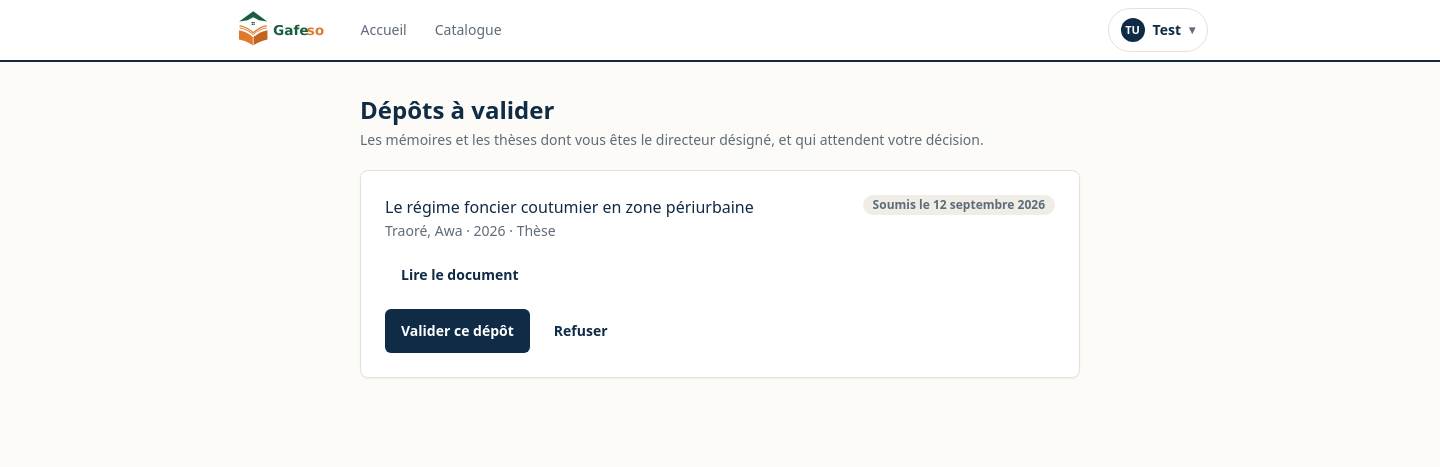
Scenario: Dépôts à valider · le déposant est-il prévenu ? › courriel parti : on le dit
Click the button "Valider ce dépôt" at (457,331), box [385,309,530,353]
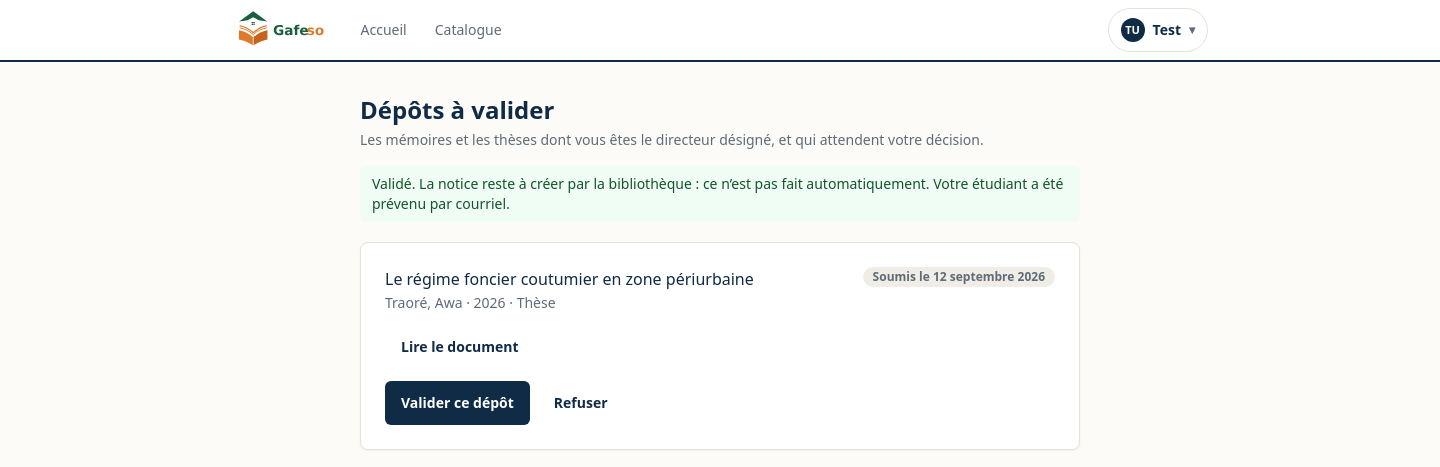
Check: the text "Votre étudiant a été prévenu par courriel." is shown, box [372,174,1063,213]
